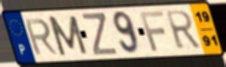9: (111, 9, 141, 57)
F: (138, 10, 167, 53)
M: (46, 14, 90, 58)
R: (164, 9, 203, 51), (23, 17, 60, 57)
Z: (80, 12, 120, 57)
